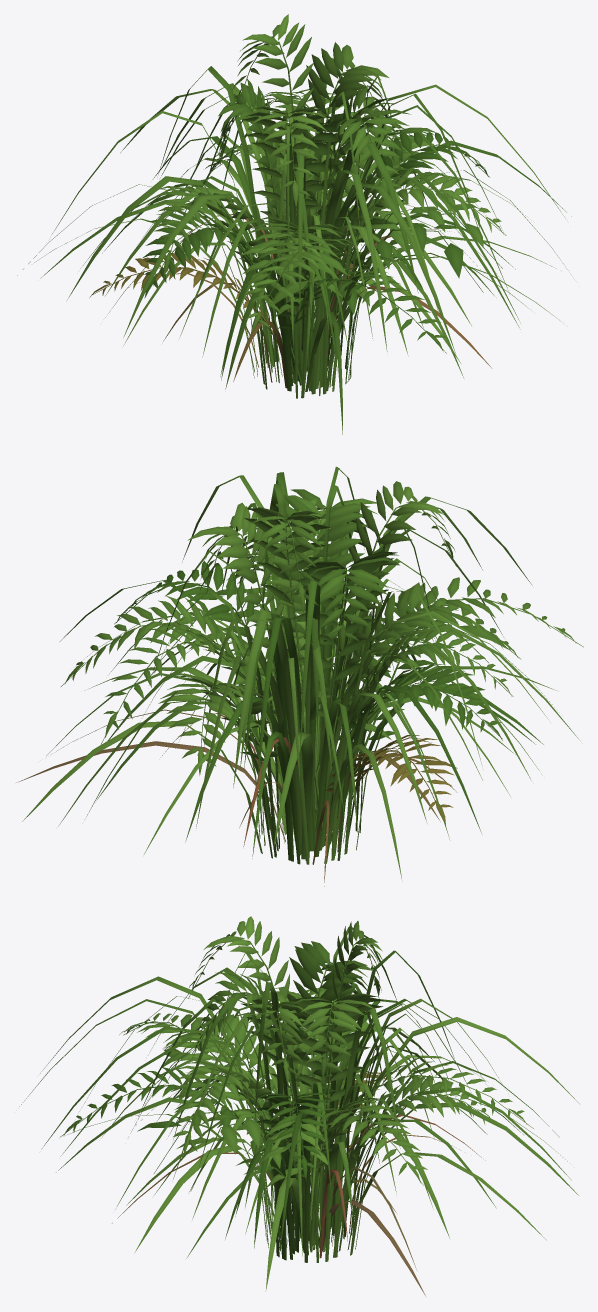
The model's file is understory.glb.
3 renders of one model, top to bottom at view 1: azimuth 30°, elevation 25°; view 2: azimuth 150°, elevation 25°; view 3: azimuth 270°, elevation 25°, orthographic. The views are drawn at different scales.
Visible parts, largest first — view 1: Grass_1, Grass_0, Fern_1, Fern_0; view 2: Fern_0, Grass_0, Grass_1, Fern_1; view 3: Grass_1, Grass_0, Fern_0, Fern_1.
Part boxes in pixels (x1,y1,x2,y2): Grass_1: [67, 83, 571, 434]; Grass_0: [17, 57, 568, 398]; Fern_1: [89, 14, 489, 382]; Fern_0: [142, 42, 506, 385]; Fern_0: [61, 489, 521, 840]; Grass_0: [51, 466, 515, 886]; Grass_1: [16, 496, 578, 864]; Fern_1: [101, 481, 583, 845]; Grass_1: [19, 967, 579, 1295]; Grass_0: [41, 927, 578, 1269]; Fern_0: [163, 941, 489, 1249]; Fern_1: [60, 916, 533, 1245].
Bounding box in the file's own units: 1.18 × 0.7847 × 1.3.
